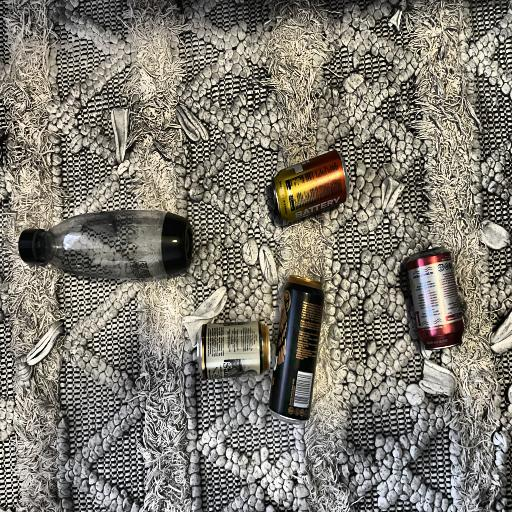karhu: (266, 266, 334, 420)
koff: (396, 244, 474, 360)
sandels: (192, 313, 271, 380)
